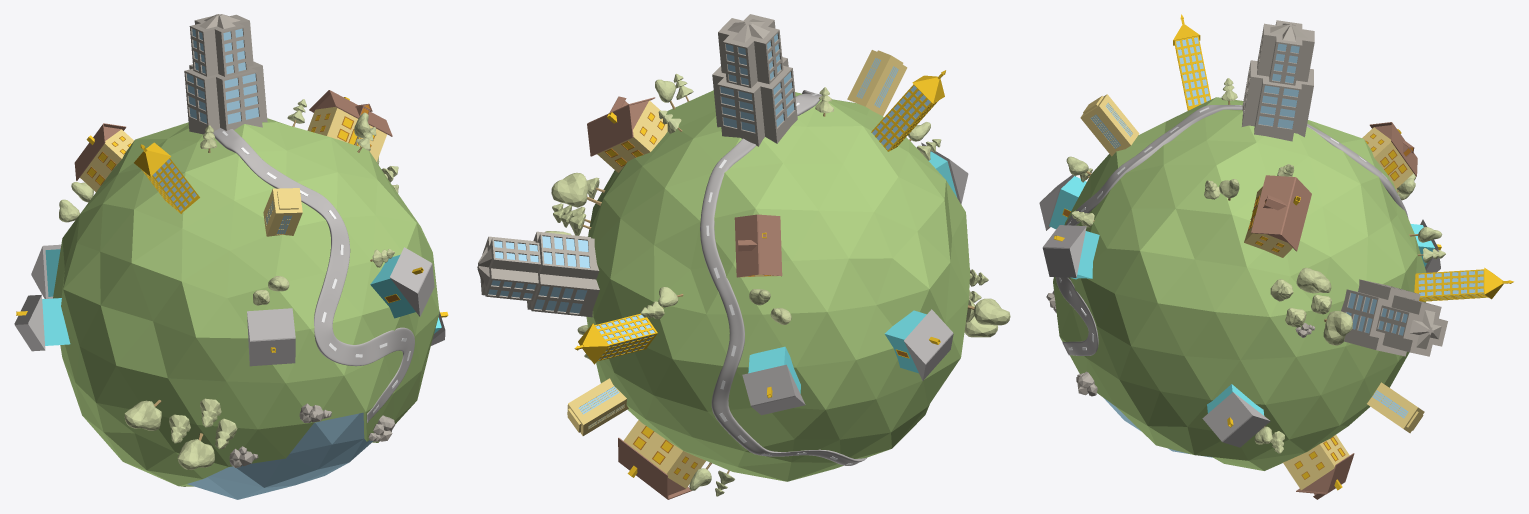
File: planet.b88746a3 2.gltf
3 renders of one model, left to right at view 1: azimuth 30°, elevation 25°; view 2: azimuth 150°, elevation 25°; view 3: azimuth 270°, elevation 25°, orthographic. The views are drawn at different scales.
Parts seen in each view (by area): view 1: planet-planet, road-roof house, building03-stones, planet-water, tree-tree crown (×5), house.3-roof house, building03-water, house-roof house, building01-chimney house,door, building02.1-walls house2, house.2-walls house2, house.4-roof house (+9 smaller); view 2: planet-planet, building03-stones (×2), road-roof house, building03-water (×2), house.5-roof house2, building01.1-chimney house,door, building02.1-walls house2, house.7-roof house, building01-chimney house,door, house.4-roof house, building02-walls house2, house.1-walls house2 (+8 smaller); view 3: planet-planet, building03-stones (×2), road-roof house, house.2-roof house2, building03-water (×2), house.6-roof house, building01.1-chimney house,door, building02.1-walls house2, house-roof house, building01-chimney house,door, house.1-walls house2, tree-tree crown (×2) (+10 smaller).
Boxes of the visible parts, x1,y1,x2,y2 form: planet-planet: (53,118,439,486); road-roof house: (183,128,414,486); building03-stones: (184,14,267,134); planet-water: (187,412,373,499); tree-tree crown (×5): (124,398,237,469); house.3-roof house: (247,308,295,366); building03-water: (186,28,258,123); house-roof house: (389,247,434,316); building01-chimney house,door: (134,142,199,213); building02.1-walls house2: (263,188,302,236); house.2-walls house2: (307,107,386,161); house.4-roof house: (14,294,45,351); planet-planet: (586,90,969,481); building03-stones (×2): (477,14,797,317); road-roof house: (700,90,866,465); building03-water (×2): (488,33,794,313); house.5-roof house2: (734,214,782,277); building01.1-chimney house,door: (574,313,657,364); building02.1-walls house2: (847,50,907,115); house.7-roof house: (742,364,805,415); building01-chimney house,door: (871,70,945,151); house.4-roof house: (904,309,953,380); building02-walls house2: (567,378,628,435); house.1-walls house2: (623,420,705,488); planet-planet: (1053,97,1426,470); building03-stones (×2): (1242,20,1447,356); road-roof house: (1055,105,1408,355); house.2-roof house2: (1251,175,1311,251); building03-water (×2): (1258,43,1407,335); house.6-roof house: (1202,392,1270,447); building01.1-chimney house,door: (1414,267,1513,301); building02.1-walls house2: (1080,94,1139,156); house-roof house: (1042,225,1086,277); building01-chimney house,door: (1173,14,1210,110); house.1-walls house2: (1283,435,1349,490); tree-tree crown (×2): (1296,267,1352,345).
Size of the model in its own units: 236 by 263 by 257.
